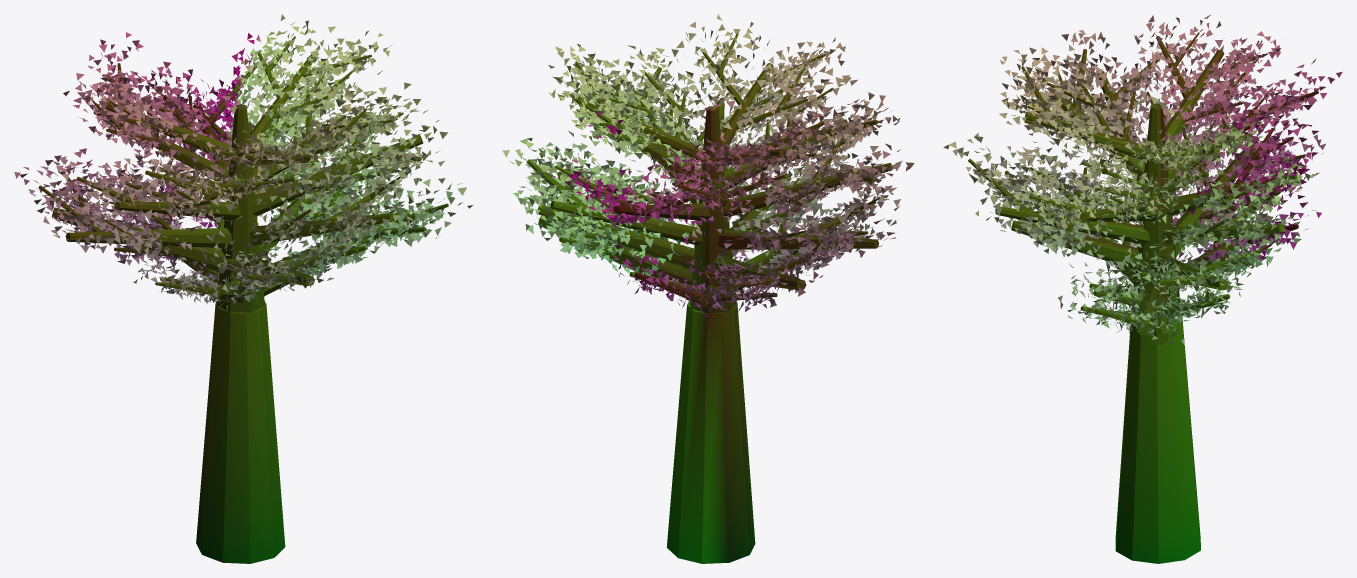
File: ecological_savanna_ancient_01.glb
3 renders of one model, left to right at view 1: azimuth 30°, elevation 25°; view 2: azimuth 150°, elevation 25°; view 3: azimuth 270°, elevation 25°, orthographic.
Parts seen in each view (by area): view 1: ecological_savanna_ancient_01; view 2: ecological_savanna_ancient_01; view 3: ecological_savanna_ancient_01.
Boxes of the visible parts, <box> form: ecological_savanna_ancient_01: <box>14,14,473,563</box>; ecological_savanna_ancient_01: <box>502,14,914,563</box>; ecological_savanna_ancient_01: <box>943,14,1342,563</box>.
Bounding box in the file's own units: 57.98 × 67.7 × 51.93.
